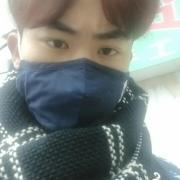OK: (18, 13, 138, 133)
